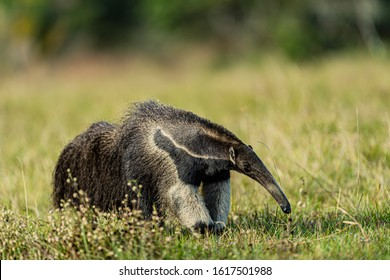TamanduaBandeira: (48, 94, 295, 236)
